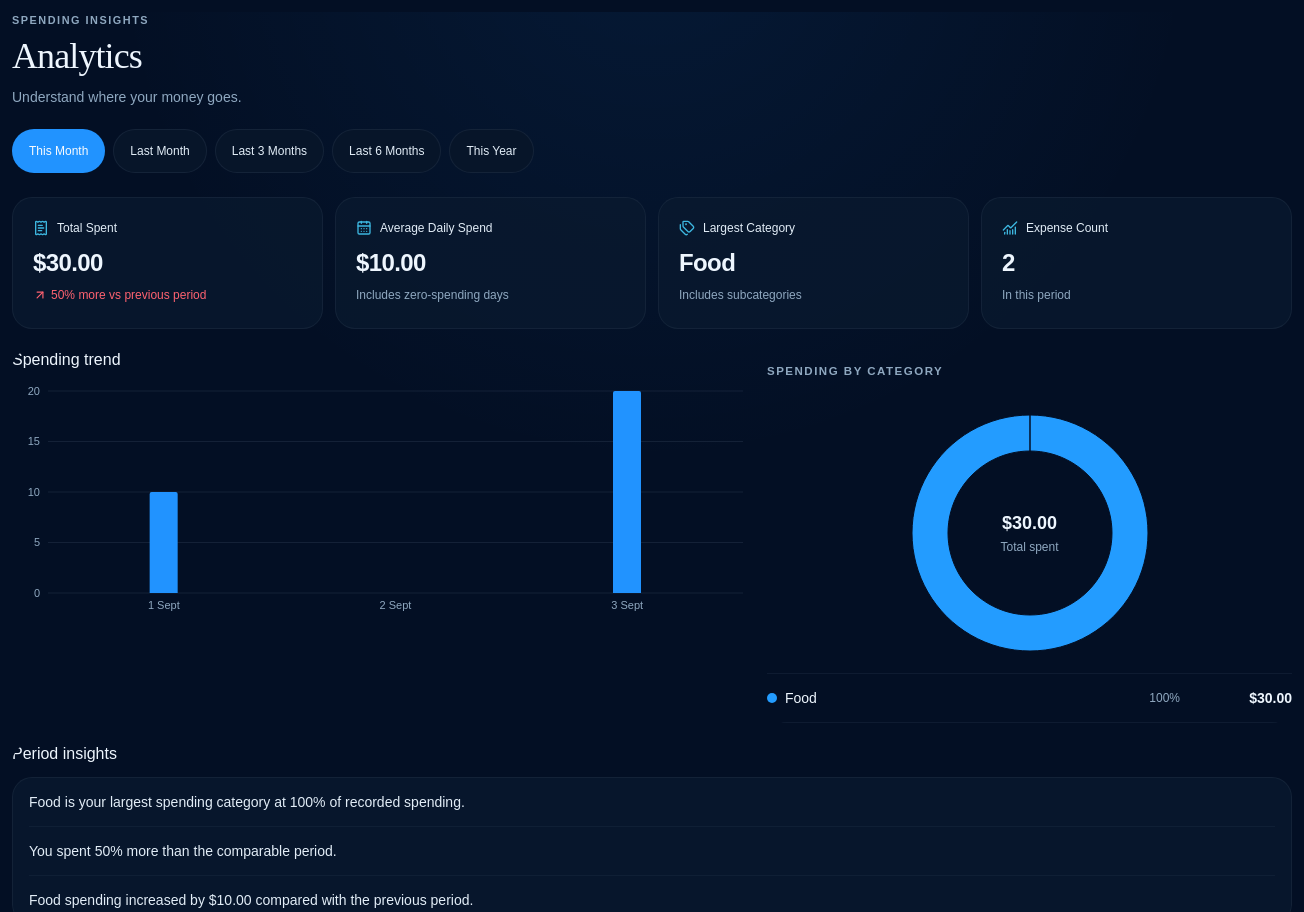
Analytics presentation › updates the donut total and category list together when the period changes
The image size is (1304, 912).
Check: the 2nd text "$30.00" is shown, box [1002,513,1057,533]
Step 1. Click the button "Last Month" → [160, 151], box [113,129,207,173]
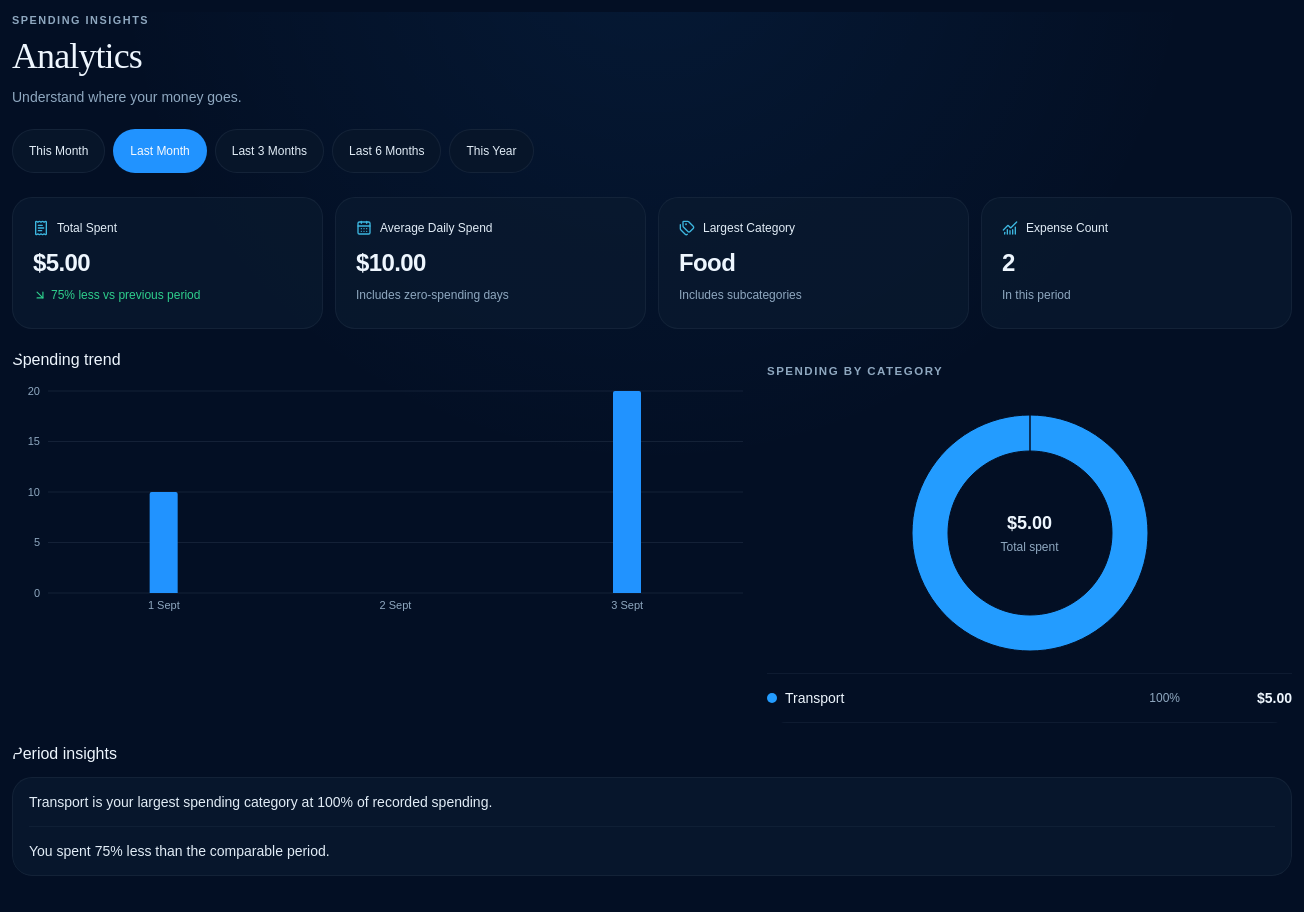
Check: the text "100%" is shown, box [1149,691,1180,705]
Check: the 2nd text "$5.00" is shown, box [1007,513,1052,533]
Check: the text "Transport" is shown, box [785,688,844,708]
